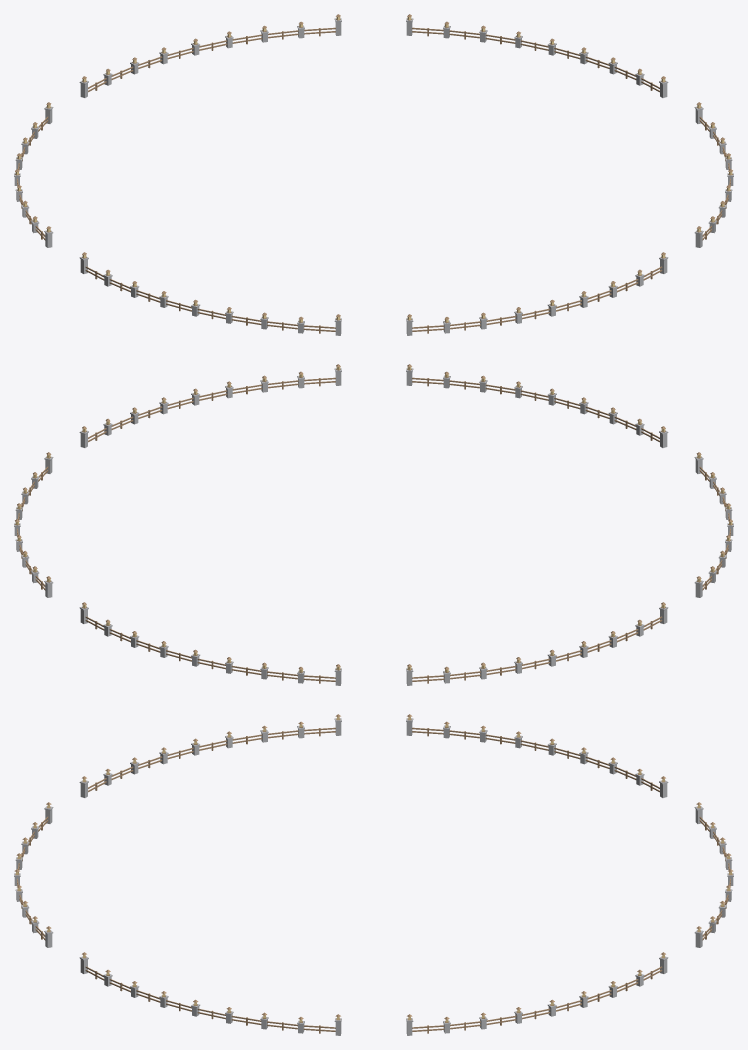
The model's file is lobby_fence_uv.fbx.
The picture shows the model from 3 angles, top to bottom: view 1: azimuth 30°, elevation 25°; view 2: azimuth 150°, elevation 25°; view 3: azimuth 270°, elevation 25°; orthographic projection.
Visible parts, largest first — view 1: LobbyFence_Wood, LobbyFence_Stone, LobbyFence_Glow; view 2: LobbyFence_Wood, LobbyFence_Stone, LobbyFence_Glow; view 3: LobbyFence_Wood, LobbyFence_Stone, LobbyFence_Glow.
Boxes of the visible parts, <box> form: LobbyFence_Wood: <box>15,14,733,333</box>; LobbyFence_Stone: <box>14,18,733,335</box>; LobbyFence_Glow: <box>15,17,732,322</box>; LobbyFence_Wood: <box>14,364,732,683</box>; LobbyFence_Stone: <box>14,368,733,685</box>; LobbyFence_Glow: <box>15,367,732,672</box>; LobbyFence_Wood: <box>14,714,733,1033</box>; LobbyFence_Stone: <box>14,718,733,1035</box>; LobbyFence_Glow: <box>16,717,731,1022</box>.
Size of the model in its own units: 302 by 9.6 by 303.
